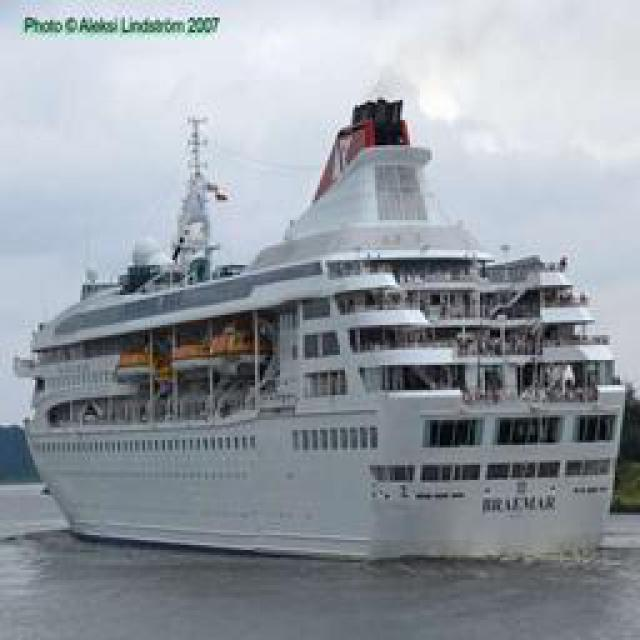Ship: (19, 87, 622, 557)
